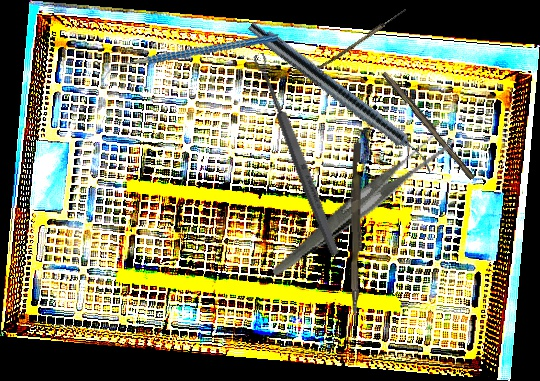Chopper: (102, 8, 279, 106)
Dressing Forceps: (247, 130, 470, 277)
Handpiece: (242, 18, 442, 176)
Pusher: (348, 143, 365, 321)
Scalpel Handle: (379, 69, 479, 181)
Surgical Spoon: (251, 51, 343, 258), (317, 7, 407, 72)
